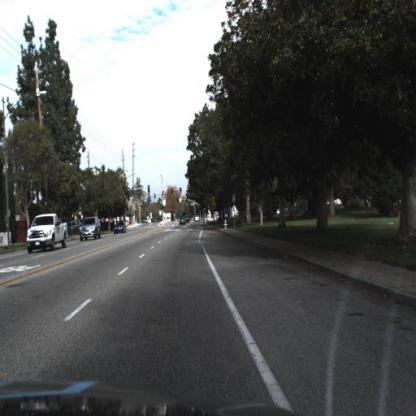car: (24, 210, 68, 255), (77, 215, 101, 241), (113, 221, 128, 236), (175, 215, 186, 231), (194, 212, 203, 227)
trafficLight-Green: (179, 185, 184, 196)
